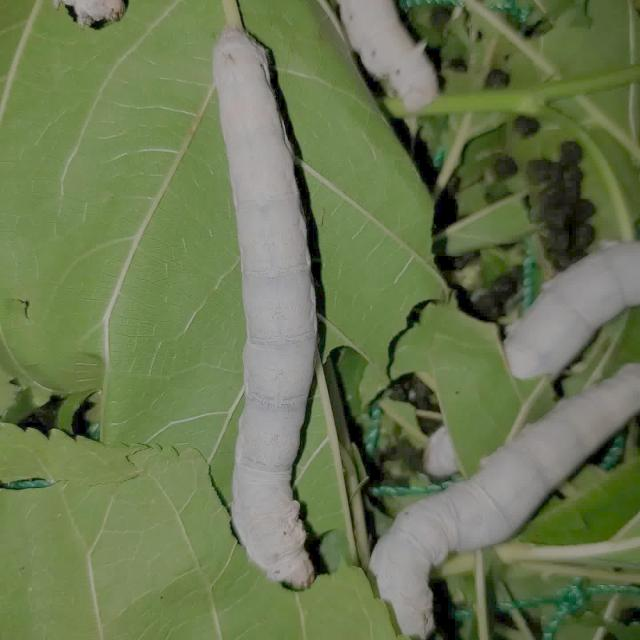Healthy: (373, 170, 640, 640), (181, 15, 354, 595)
